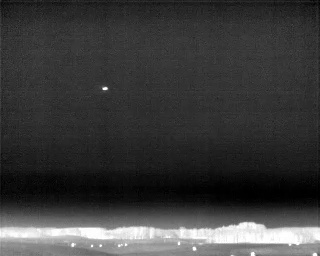AIRPLANE: (100, 84, 110, 92)
